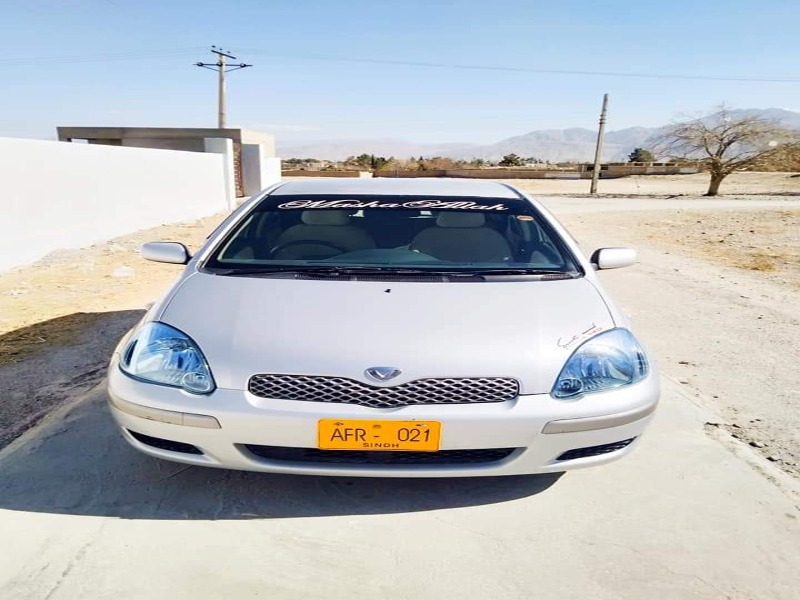License Plate: (315, 419, 443, 454)
